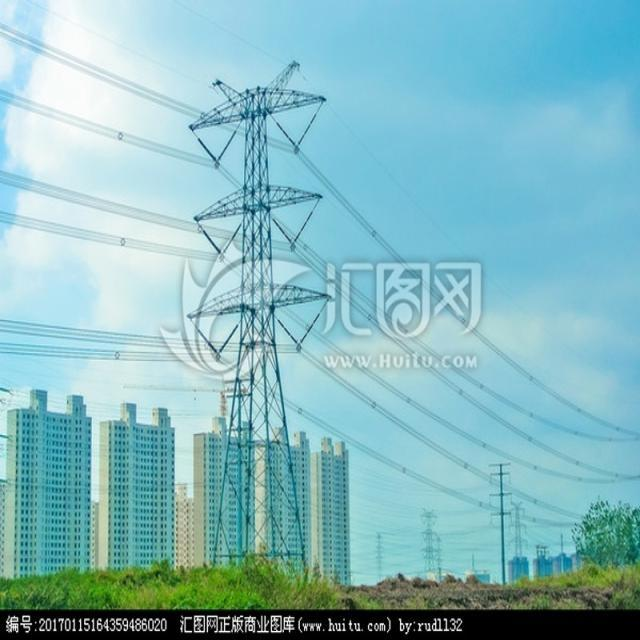non-critical vegetation: (175, 59, 318, 582)
